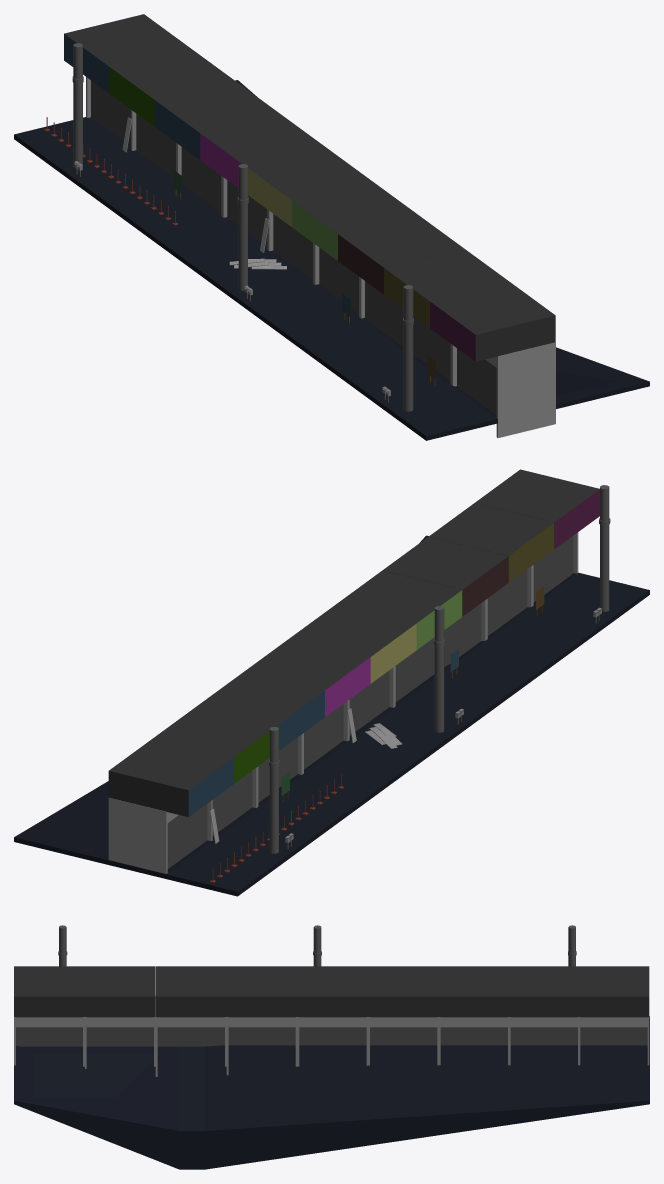
File: Bloco2.fbx
3 views of the same model, one above another, from view 1: azimuth 30°, elevation 25°; view 2: azimuth 150°, elevation 25°; view 3: azimuth 270°, elevation 25° (orthographic). The views are drawn at different scales.
Visible parts, largest first — view 1: Bloco 2; view 2: Bloco 2; view 3: Bloco 2.
Boxes of the visible parts, box(x1,y1,x2,y2) form: Bloco 2: box(14, 14, 649, 440); Bloco 2: box(14, 469, 649, 896); Bloco 2: box(14, 925, 649, 1169).
Size of the model in its own units: 2507 by 2271 by 8000.
